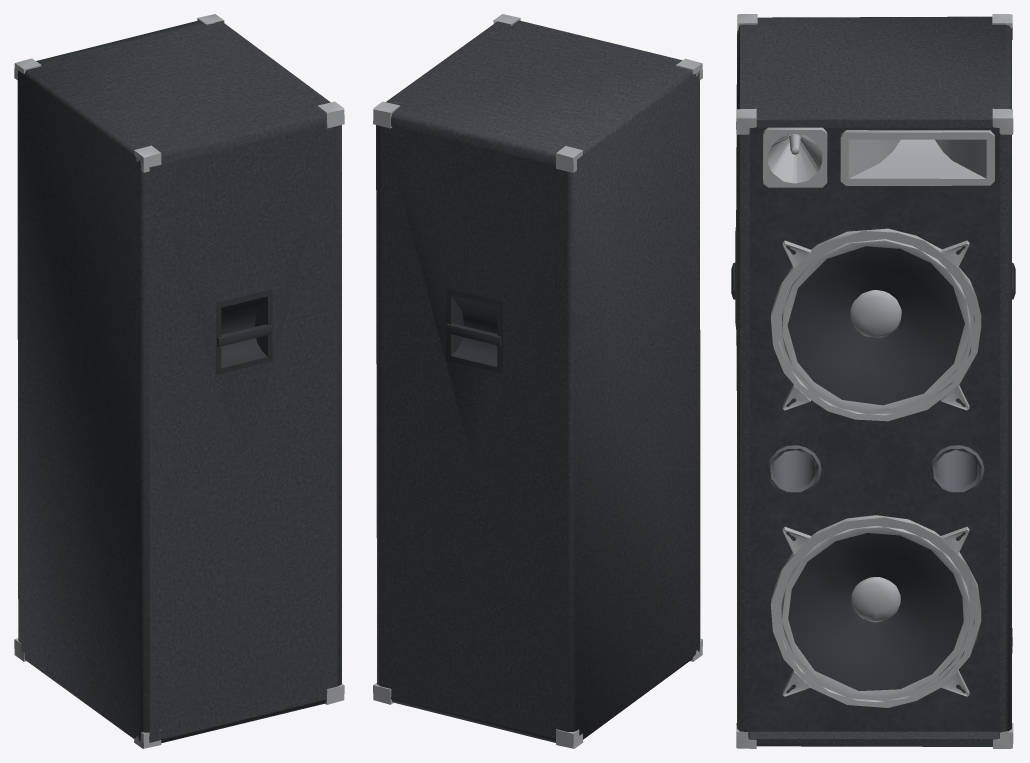
The model's file is Subwoofer.fbx.
3 renders of one model, left to right at view 1: azimuth 30°, elevation 25°; view 2: azimuth 150°, elevation 25°; view 3: azimuth 270°, elevation 25°, orthographic. The views are drawn at different scales.
Parts seen in each view (by area): view 1: Колонка1; view 2: Колонка1; view 3: Колонка1.
Boxes of the visible parts, x1=… form: Колонка1: x1=14, y1=14, x2=344, y2=748; Колонка1: x1=373, y1=14, x2=702, y2=748; Колонка1: x1=731, y1=14, x2=1015, y2=748.
Bounding box in the file's own units: 66.18 × 187 × 76.14.
Materials: 1 (1 with a texture image).
